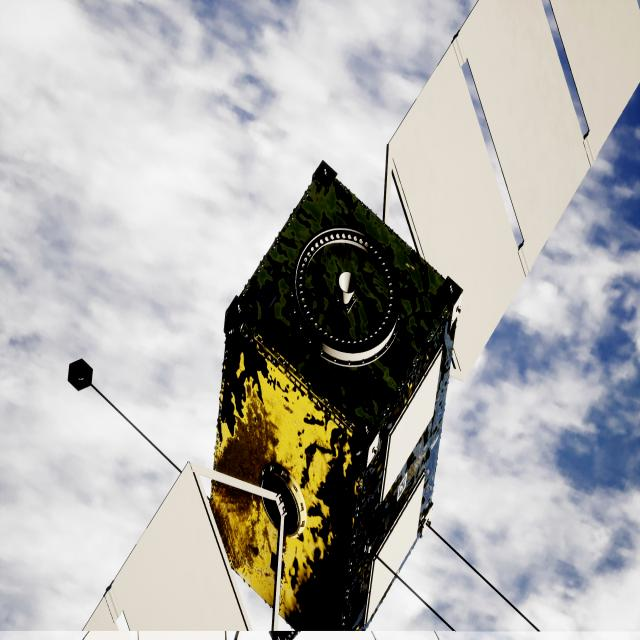medium_debris: (76, 0, 640, 640)
